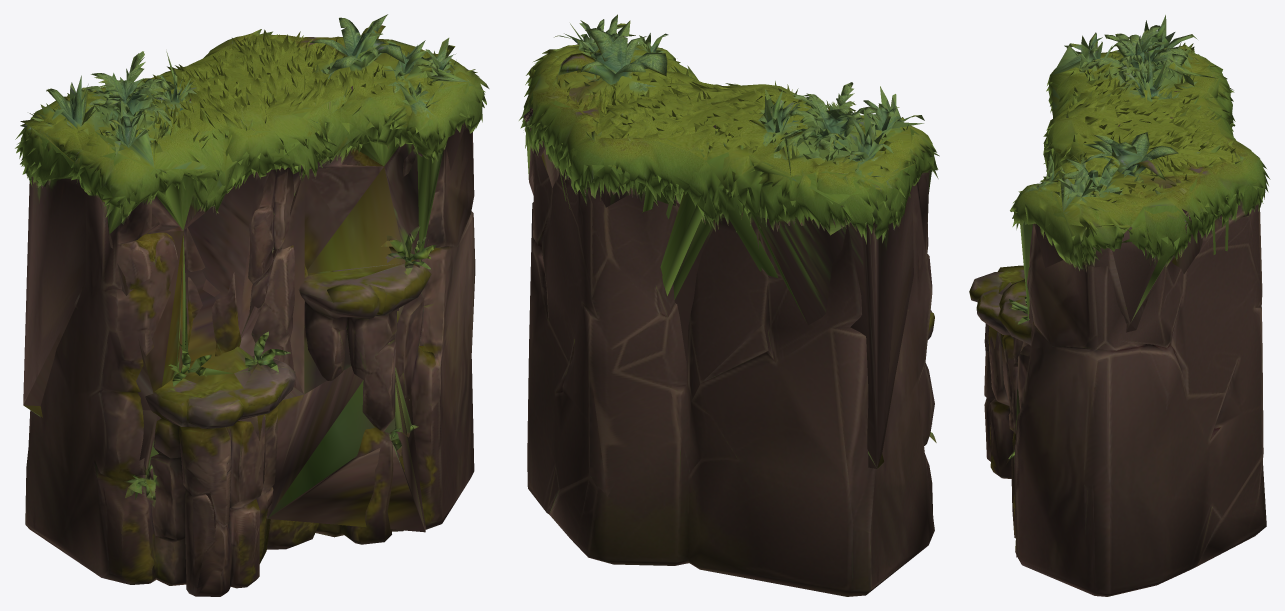
File: JGH_CliffFace_A.fbx
3 renders of one model, left to right at view 1: azimuth 30°, elevation 25°; view 2: azimuth 150°, elevation 25°; view 3: azimuth 270°, elevation 25°, orthographic. The views are drawn at different scales.
Parts seen in each view (by area): view 1: JGH_CliffFace_A, JGH_CliffFace_A_far; view 2: JGH_CliffFace_A, JGH_CliffFace_A_far; view 3: JGH_CliffFace_A, JGH_CliffFace_A_far.
Boxes of the visible parts, x1,y1,x2,y2 form: JGH_CliffFace_A: (15,14,489,596); JGH_CliffFace_A_far: (21,33,482,532); JGH_CliffFace_A: (519,14,939,596); JGH_CliffFace_A_far: (523,23,937,468); JGH_CliffFace_A: (969,15,1270,596); JGH_CliffFace_A_far: (988,25,1259,557).
Bounding box in the file's own units: 800 × 864 × 554.
Materials: 2 (2 with a texture image).
